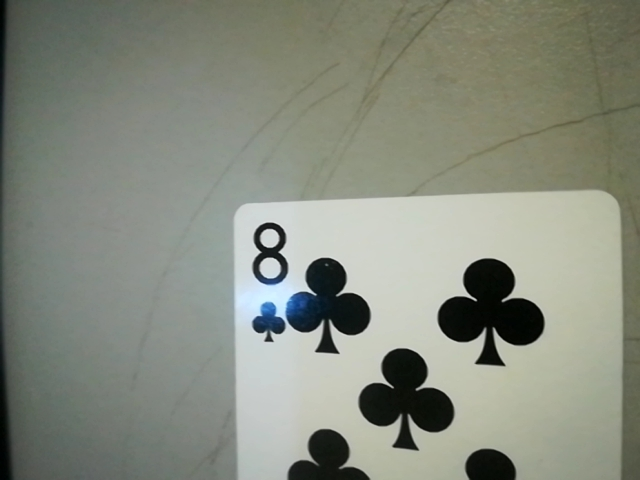mh 8: (236, 209, 298, 348)
